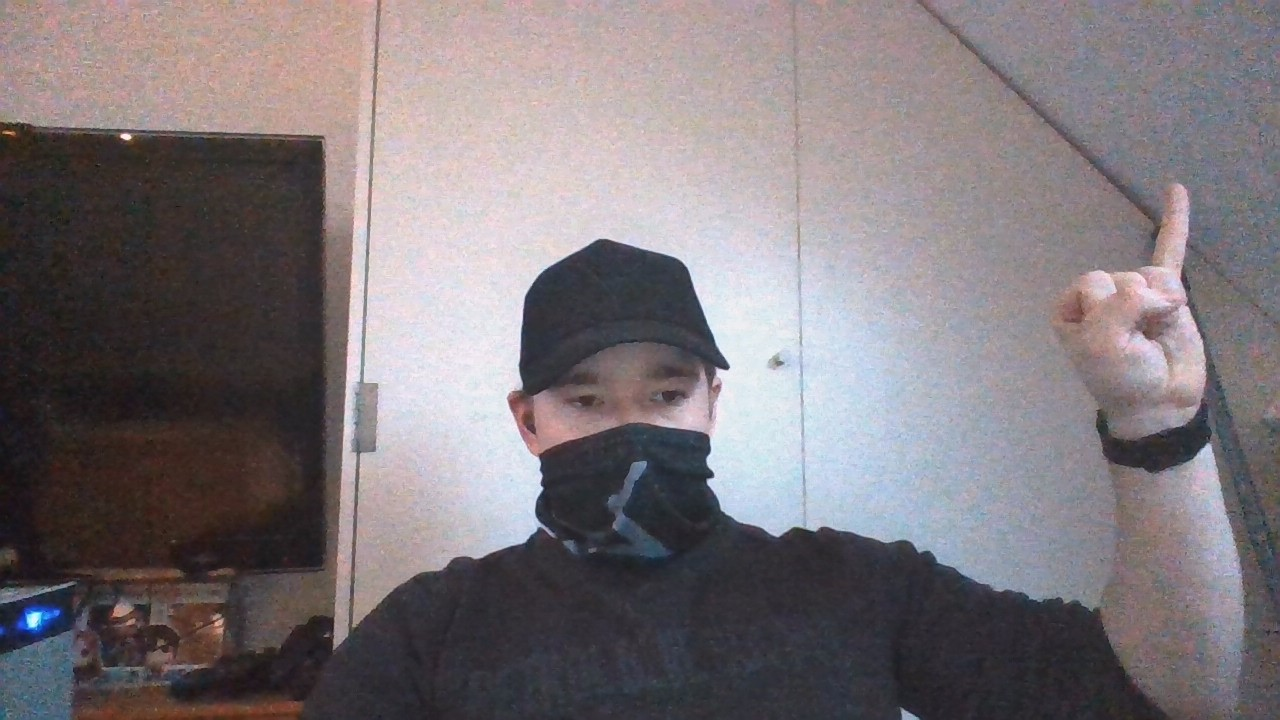I" Sign language: (1035, 178, 1216, 424)
